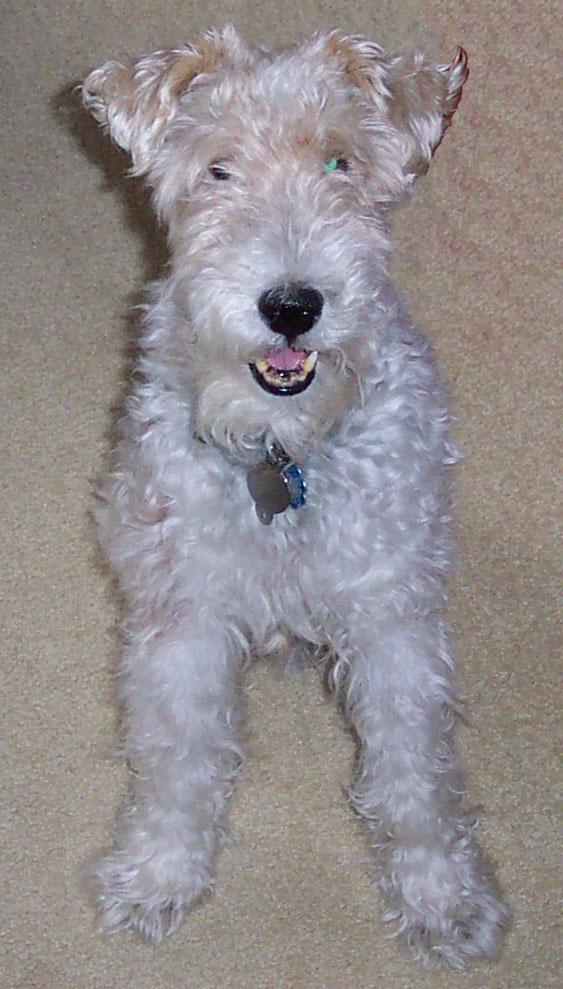wire-haired_fox_terrier: (59, 14, 535, 969)
